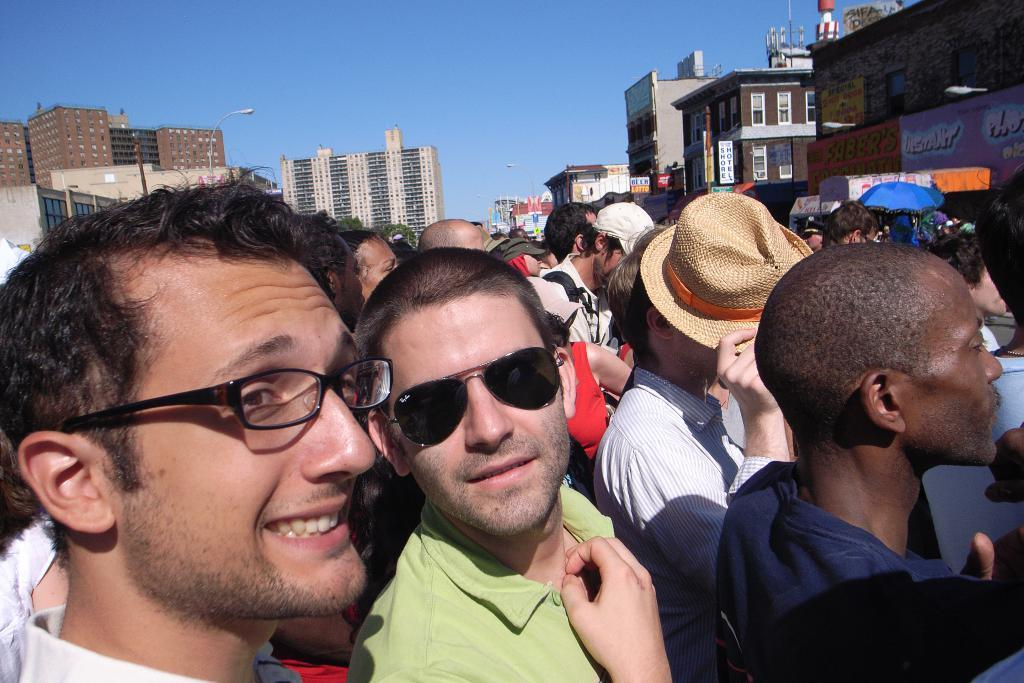Hat: (633, 188, 833, 353)
